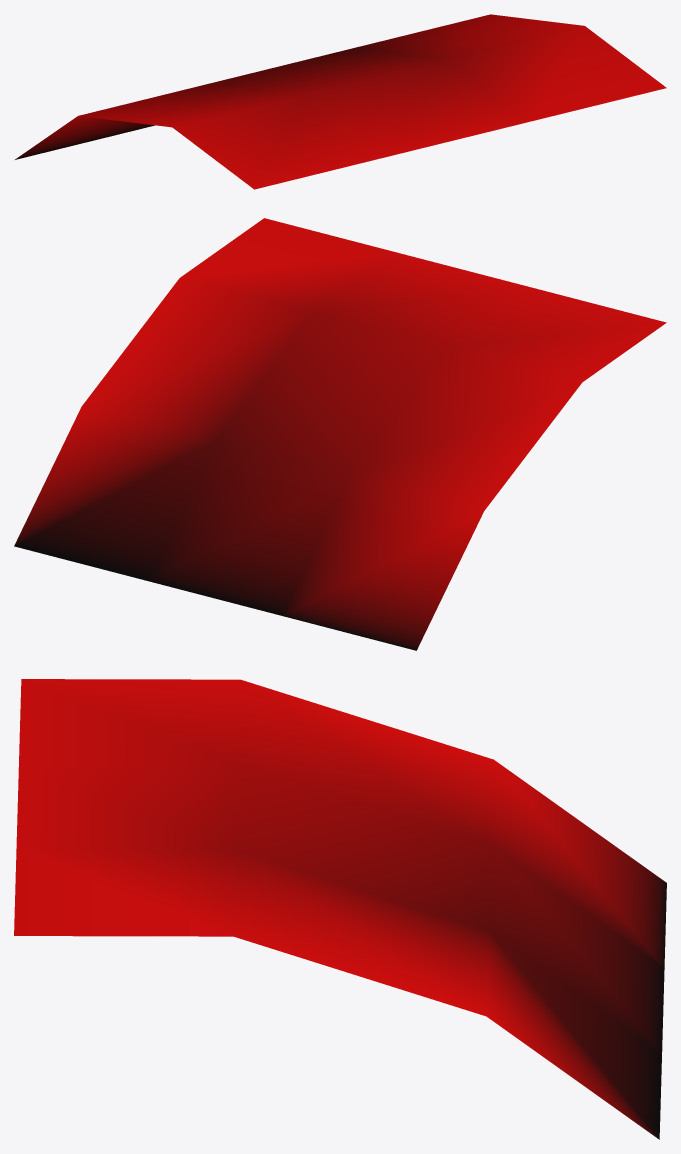
Rendered from grass_plane_2.fbx.
3 renders of one model, top to bottom at view 1: azimuth 30°, elevation 25°; view 2: azimuth 150°, elevation 25°; view 3: azimuth 270°, elevation 25°, orthographic. The views are drawn at different scales.
Visible parts, largest first — view 1: grass_plane_2; view 2: grass_plane_2; view 3: grass_plane_2.
Boxes of the visible parts, x1,y1,x2,y2 form: grass_plane_2: [15, 14, 666, 189]; grass_plane_2: [14, 218, 666, 650]; grass_plane_2: [14, 679, 666, 1139].
Size of the model in its own units: 113 by 40.72 by 117.
